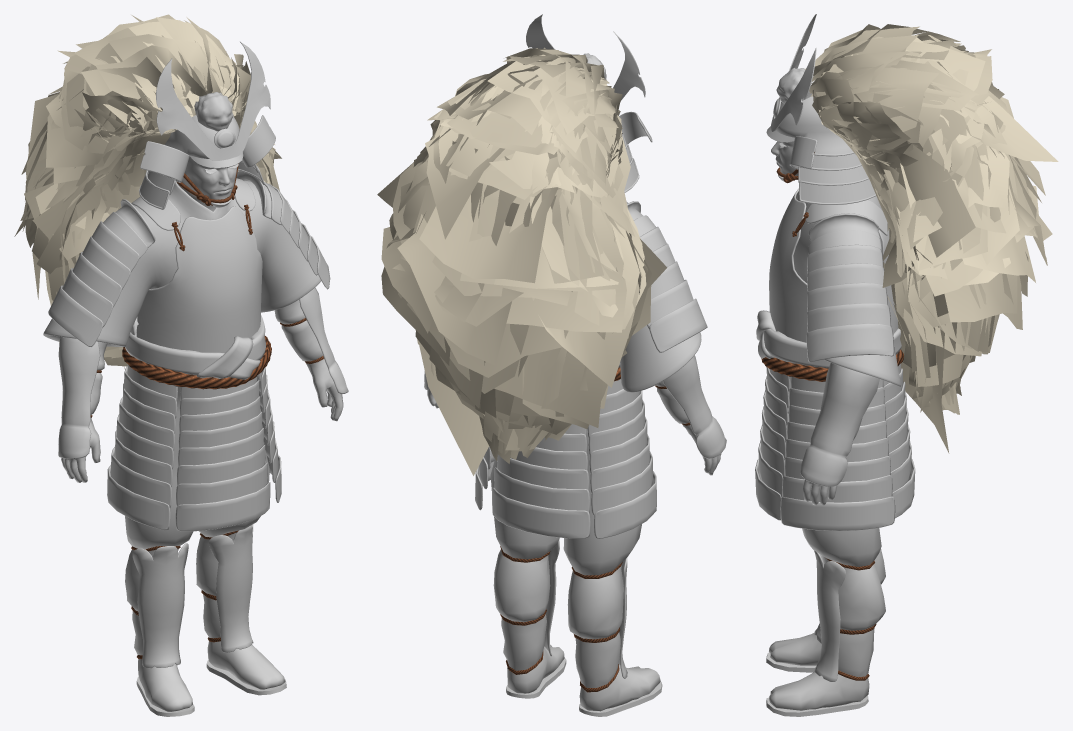
File: Saumurai.fbx
3 views of the same model, side by side, from view 1: azimuth 30°, elevation 25°; view 2: azimuth 150°, elevation 25°; view 3: azimuth 270°, elevation 25° (orthographic). The views are drawn at different scales.
Parts seen in each view (by area): view 1: Mane, Torso, Legs, Leg_Plates_Groin, Kabuto, Leg_Plates_Sides, Shoulder_Plates, Cloth_Shirt, Arms, Head, Chinstrap; view 2: Mane, Legs, Leg_Plates_Sides, Leg_Plates_Rear, Shoulder_Plates, Arms, Cloth_Shirt, Kabuto; view 3: Mane, Legs, Shoulder_Plates, Leg_Plates_Sides, Torso, Kabuto, Arms, Leg_Plates_Groin, Leg_Plates_Rear, Cloth_Shirt, Head.
Part boxes in pixels (x1,y1,x2,y2): Mane: [14, 14, 281, 369]; Torso: [122, 178, 271, 389]; Legs: [125, 383, 286, 716]; Leg_Plates_Groin: [175, 375, 270, 531]; Kabuto: [139, 41, 275, 209]; Leg_Plates_Sides: [107, 364, 281, 530]; Shoulder_Plates: [48, 171, 330, 346]; Cloth_Shirt: [43, 180, 321, 346]; Arms: [58, 287, 348, 482]; Head: [176, 156, 238, 211]; Chinstrap: [177, 163, 238, 207]; Mane: [377, 47, 667, 475]; Legs: [490, 429, 662, 716]; Leg_Plates_Sides: [475, 379, 656, 538]; Leg_Plates_Rear: [492, 424, 590, 538]; Shoulder_Plates: [627, 201, 707, 352]; Arms: [424, 355, 726, 475]; Cloth_Shirt: [620, 325, 701, 392]; Kabuto: [526, 14, 652, 192]; Mane: [805, 24, 1058, 453]; Legs: [766, 376, 885, 716]; Shoulder_Plates: [806, 213, 894, 362]; Leg_Plates_Sides: [780, 376, 895, 530]; Torso: [756, 188, 903, 381]; Kabuto: [766, 14, 876, 204]; Arms: [800, 363, 879, 505]; Leg_Plates_Groin: [755, 367, 789, 520]; Leg_Plates_Rear: [883, 363, 915, 518]; Cloth_Shirt: [793, 194, 900, 386]; Head: [771, 141, 798, 179].
Bounding box in the file's own units: 9022 × 19405 × 8161.
